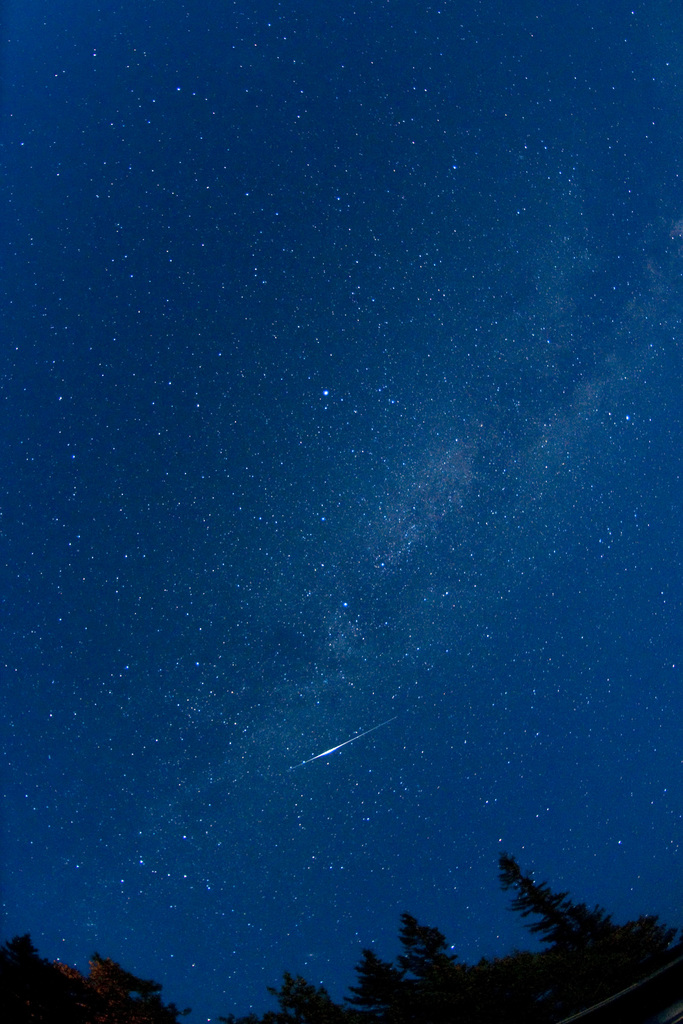Tree: (0, 851, 683, 1023)
